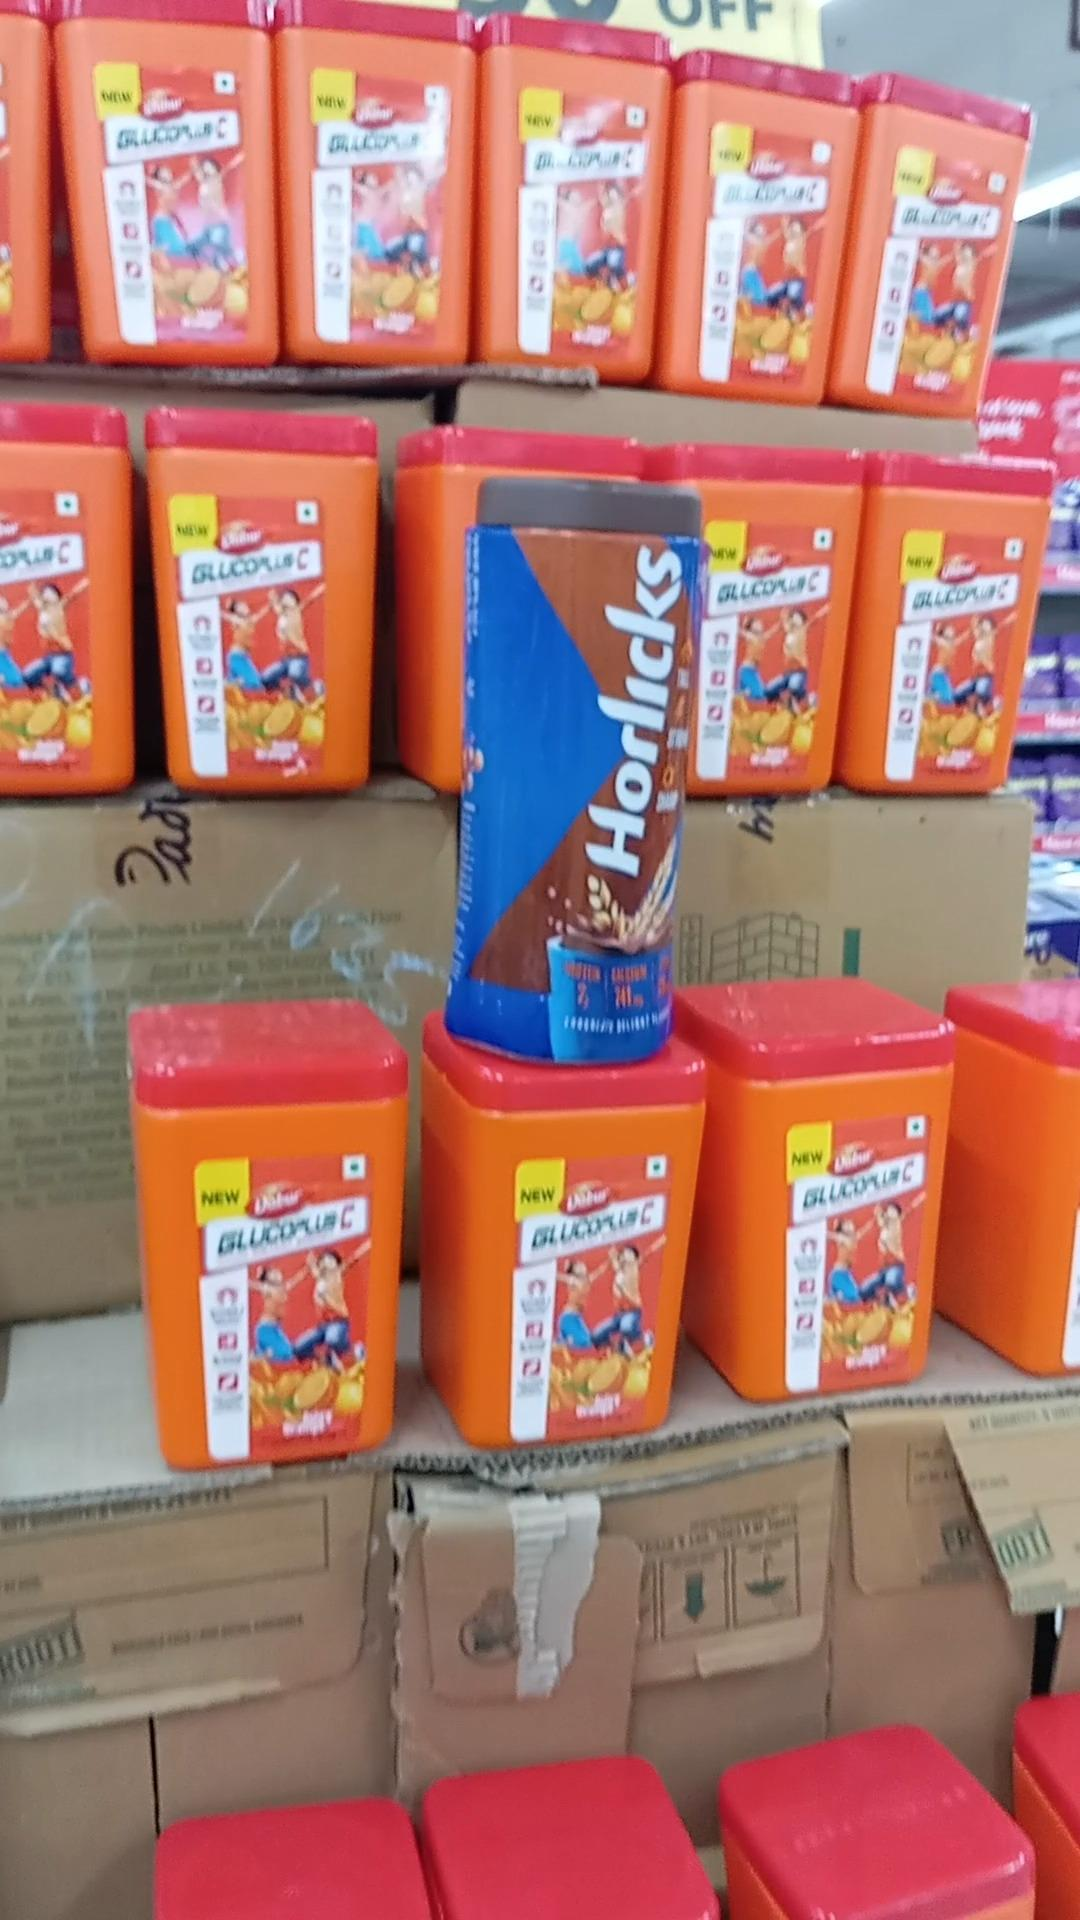HORLICK_CHOCOLATE_1_KG_JAR: (448, 479, 702, 1067)
